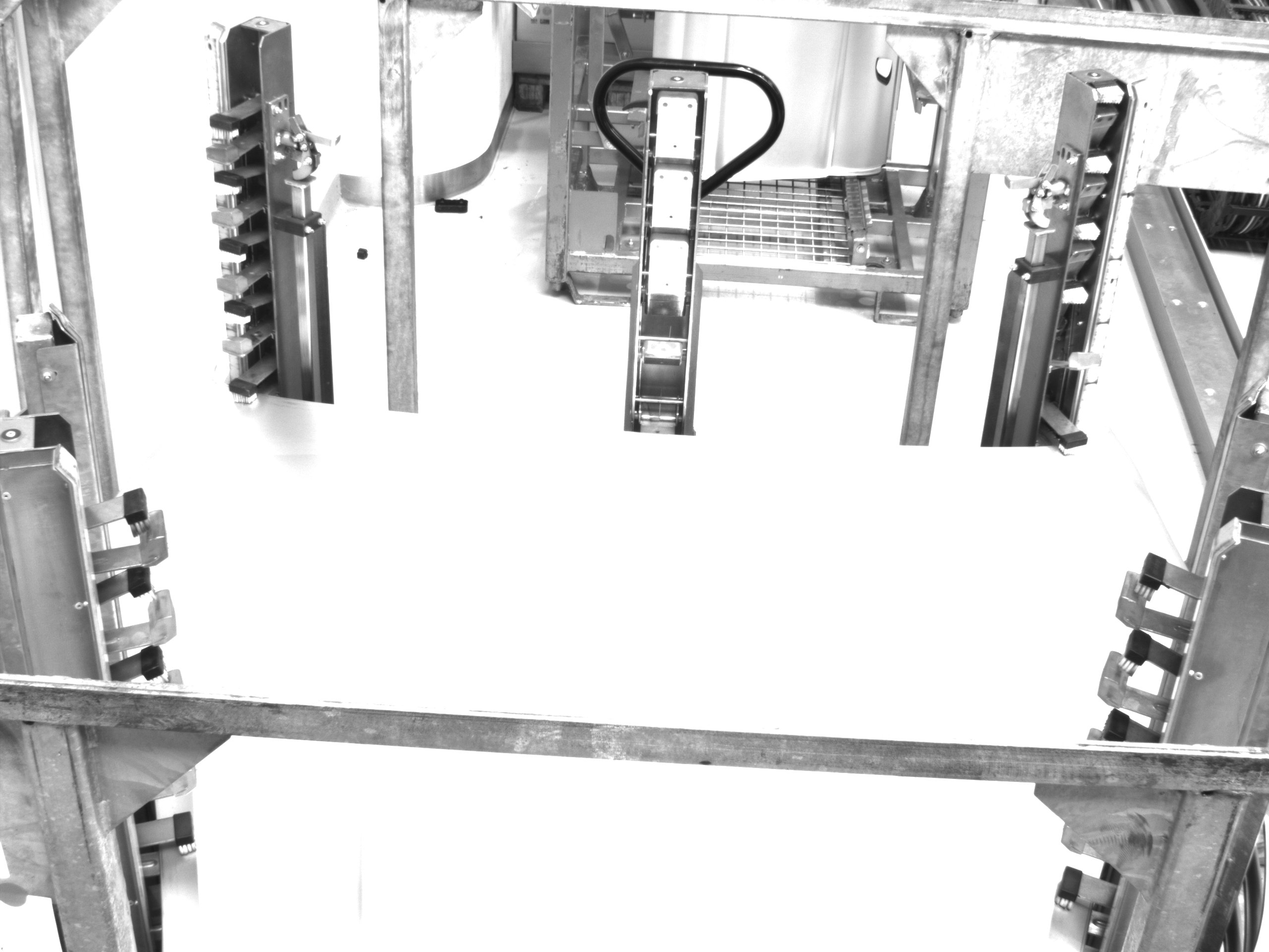wrong_pos: (1046, 74, 1128, 482), (69, 466, 214, 684), (190, 80, 285, 398), (1106, 526, 1180, 730), (1044, 860, 1109, 913), (131, 815, 203, 859)
